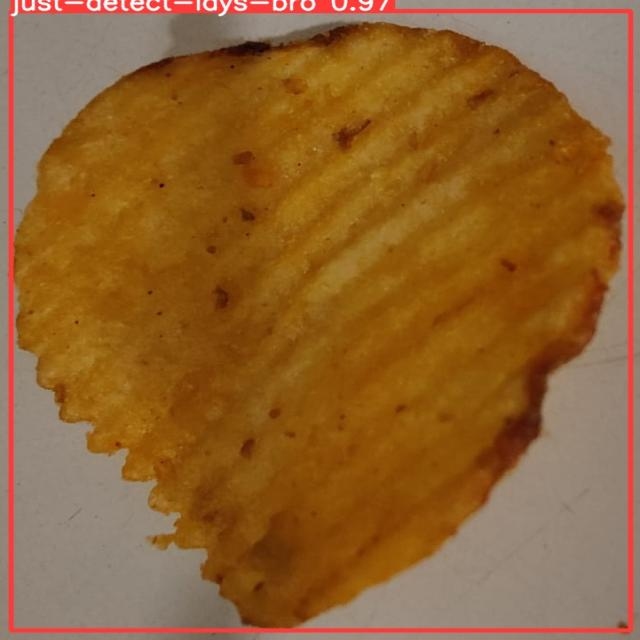Wet Waste: (27, 25, 621, 621)
